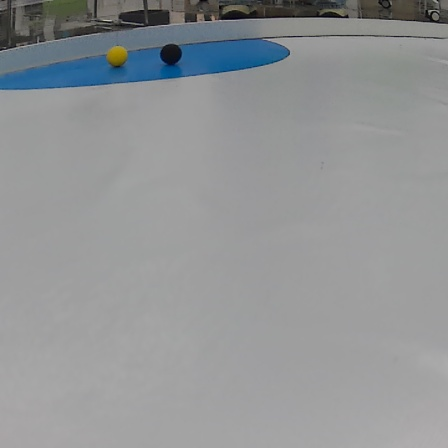black: (163, 45, 183, 63)
blue_base: (0, 37, 296, 87)
yellow: (107, 45, 129, 67)
